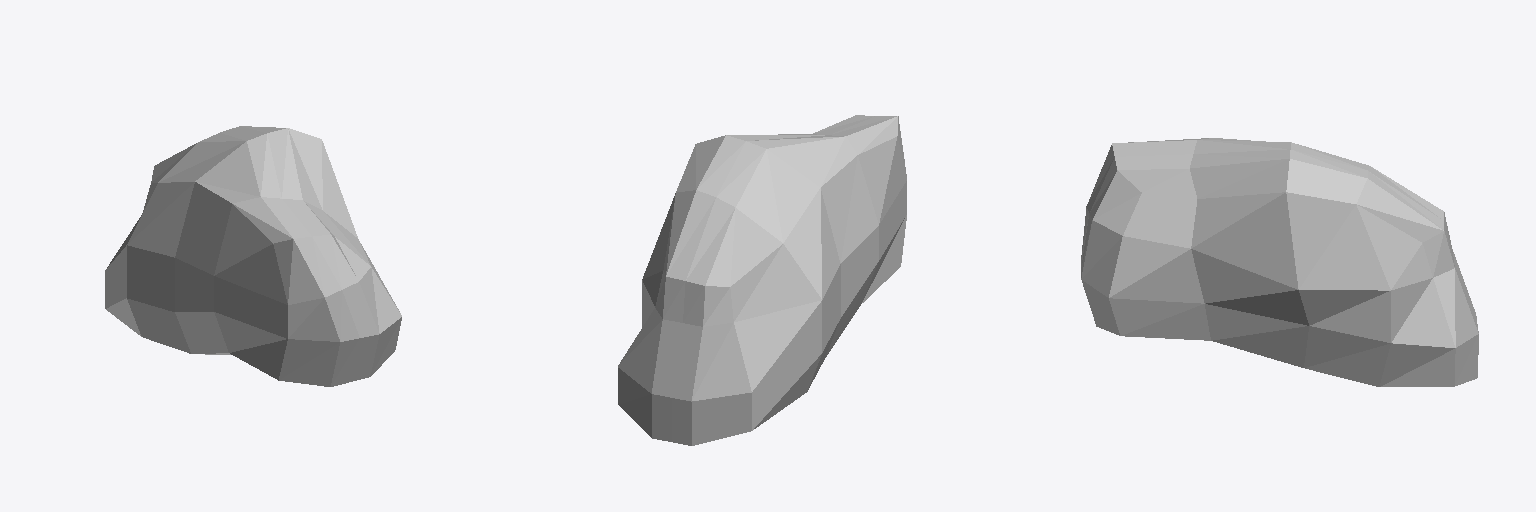
The model's file is monolith_03.obj.
The picture shows the model from 3 angles: view 1: azimuth 30°, elevation 25°; view 2: azimuth 150°, elevation 25°; view 3: azimuth 270°, elevation 25°; orthographic projection.
Visible parts, largest first — view 1: Cube_Cube; view 2: Cube_Cube; view 3: Cube_Cube.
Part boxes in pixels (bbox=[...]): Cube_Cube: bbox=[105, 126, 401, 386]; Cube_Cube: bbox=[618, 115, 906, 445]; Cube_Cube: bbox=[1081, 138, 1478, 386].
Size of the model in its own units: 142 by 171 by 267.